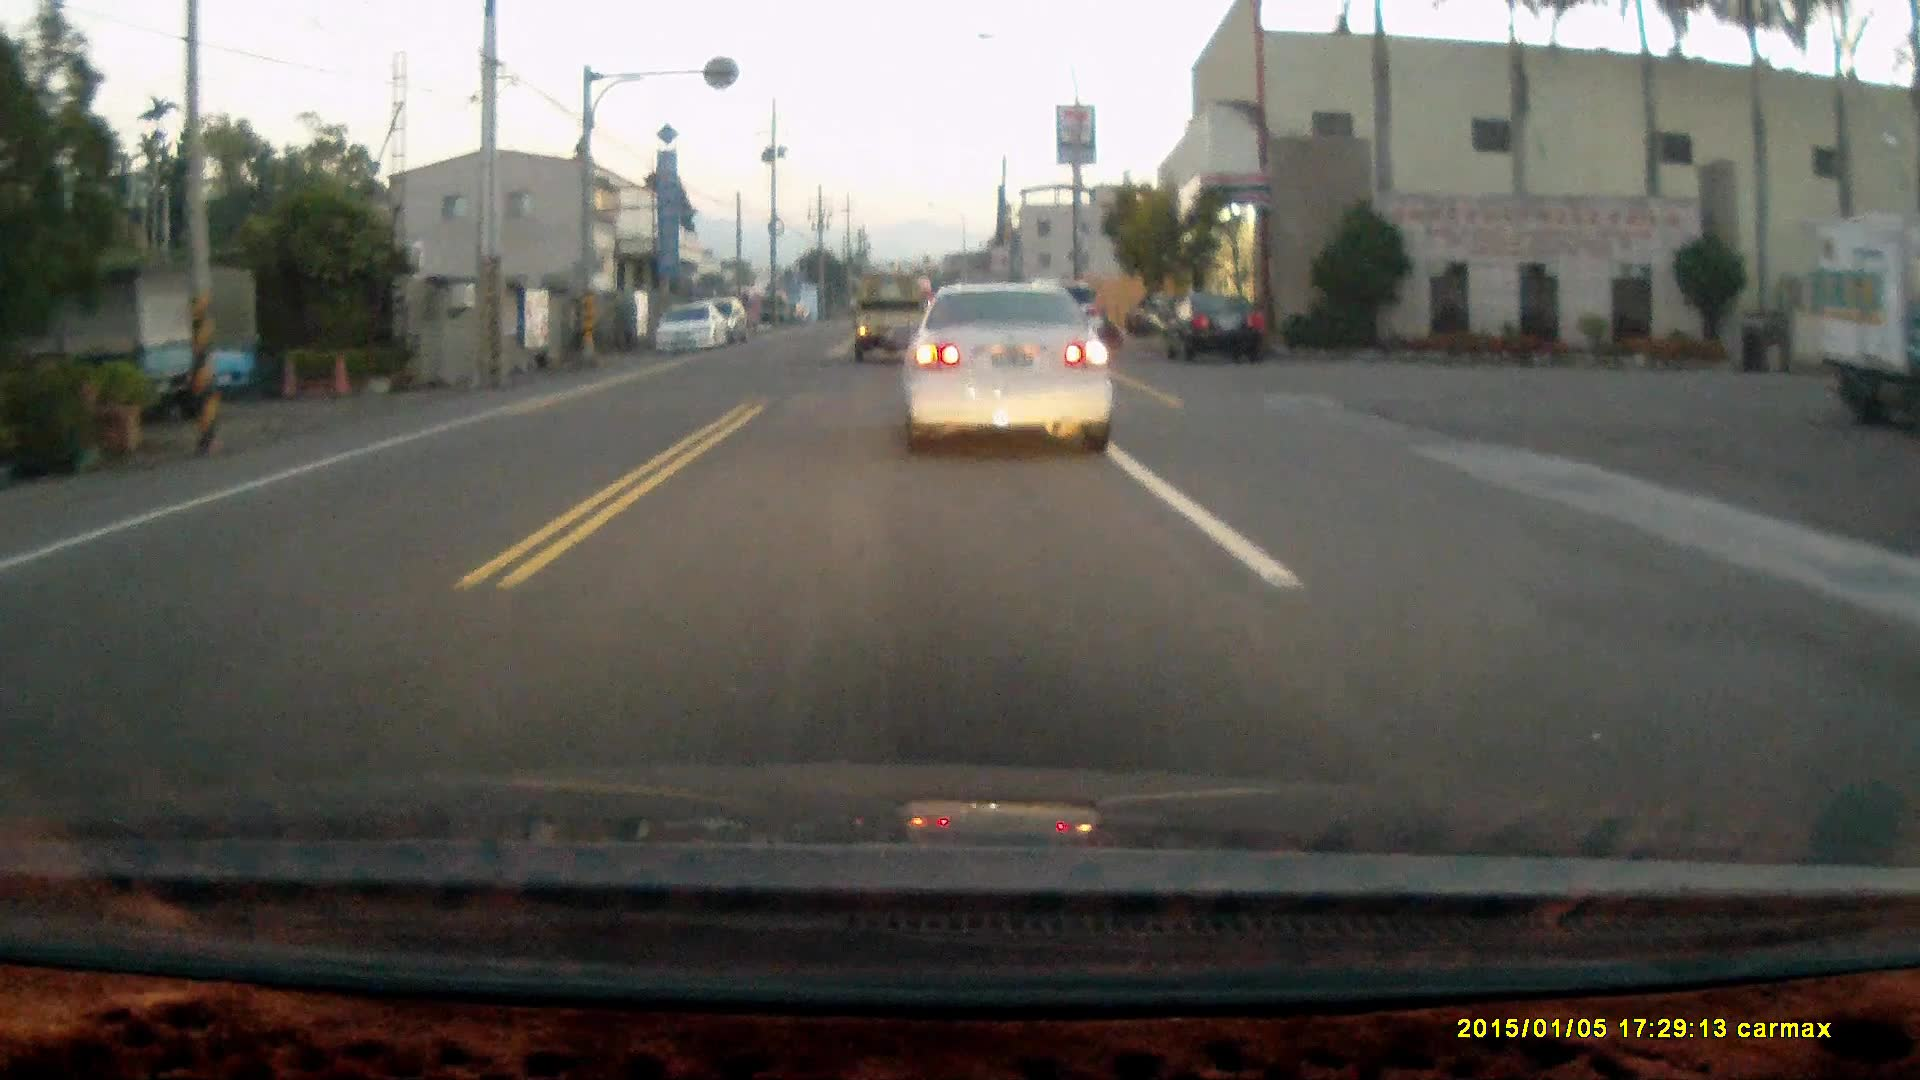vehicle: (903, 278, 1120, 467), (1820, 227, 1920, 454), (1156, 287, 1270, 360), (851, 276, 930, 363), (649, 295, 732, 353)
